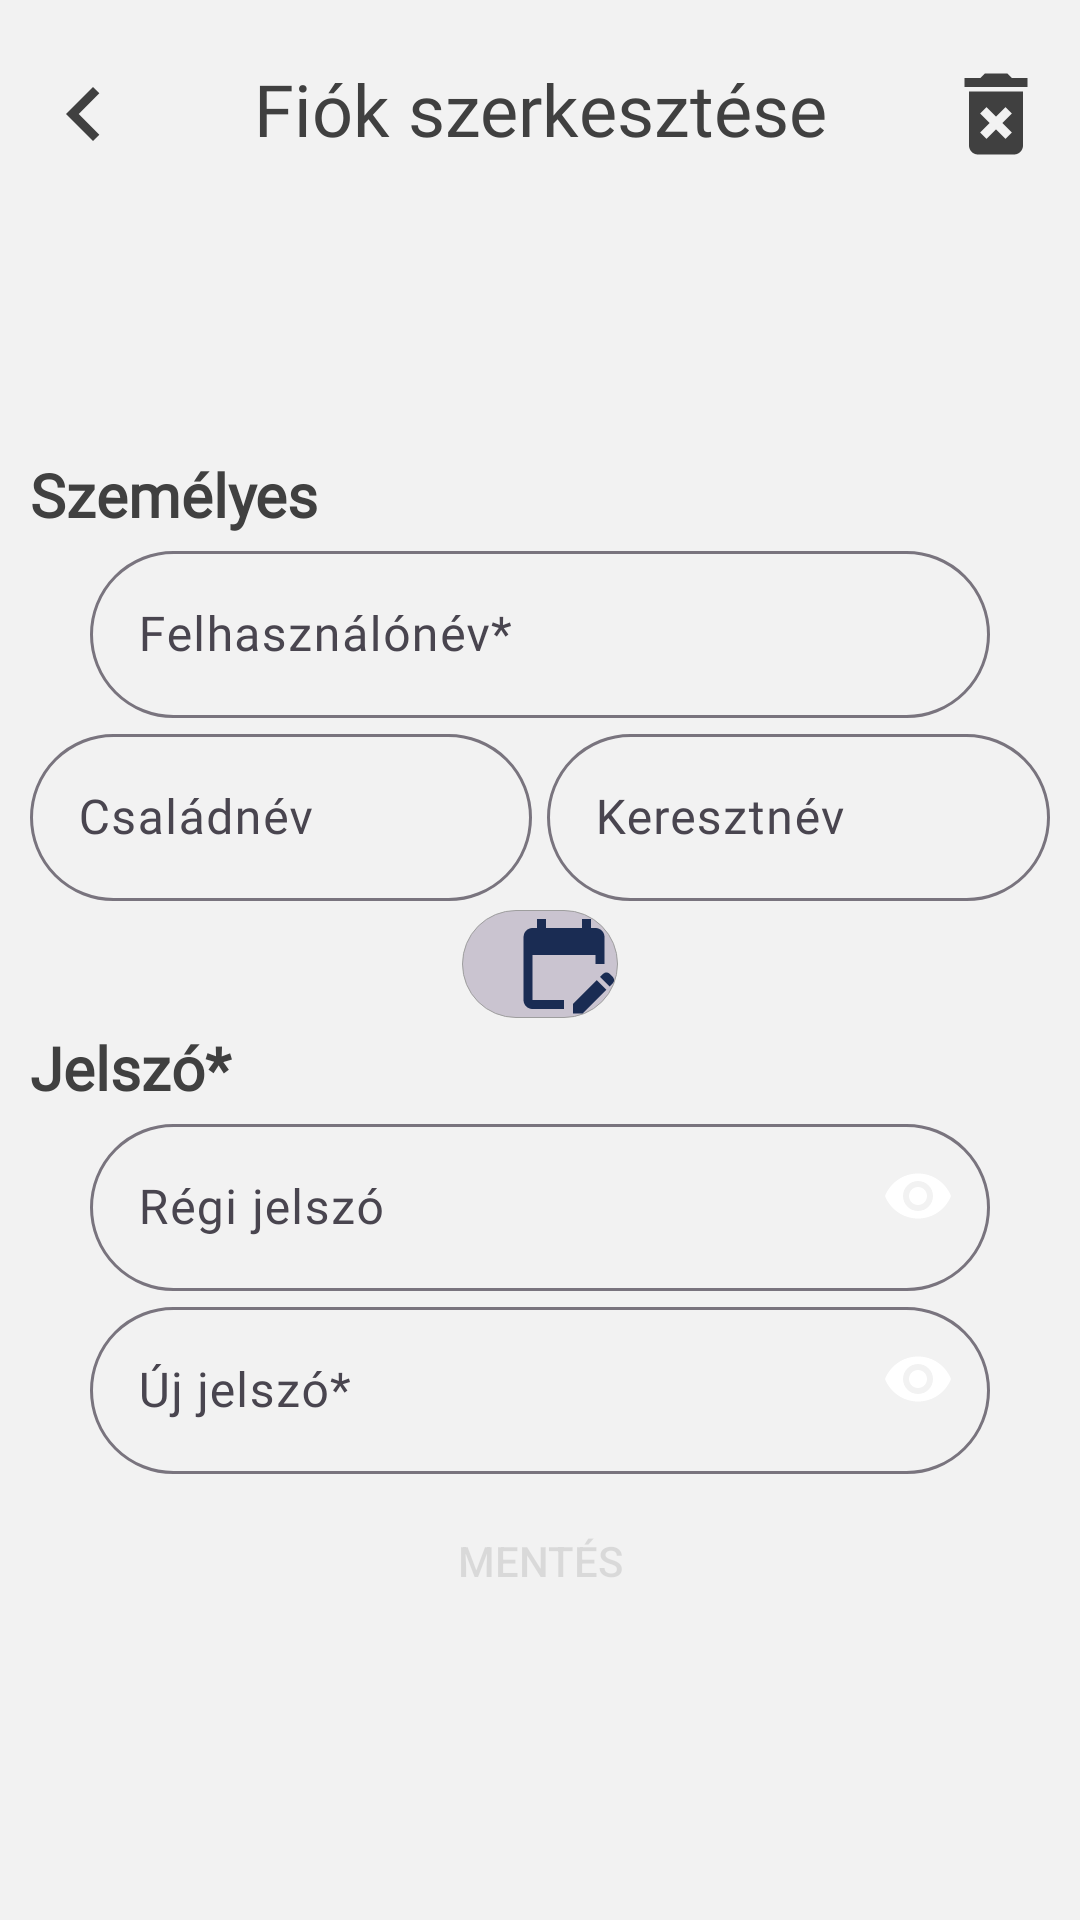

Where icons sit on this 1080×1920 app screen, as (x1, y1, x2, y2):
calendar: (510, 910, 618, 1018)
delete account: (964, 73, 1028, 155)
go back: (66, 87, 99, 141)
